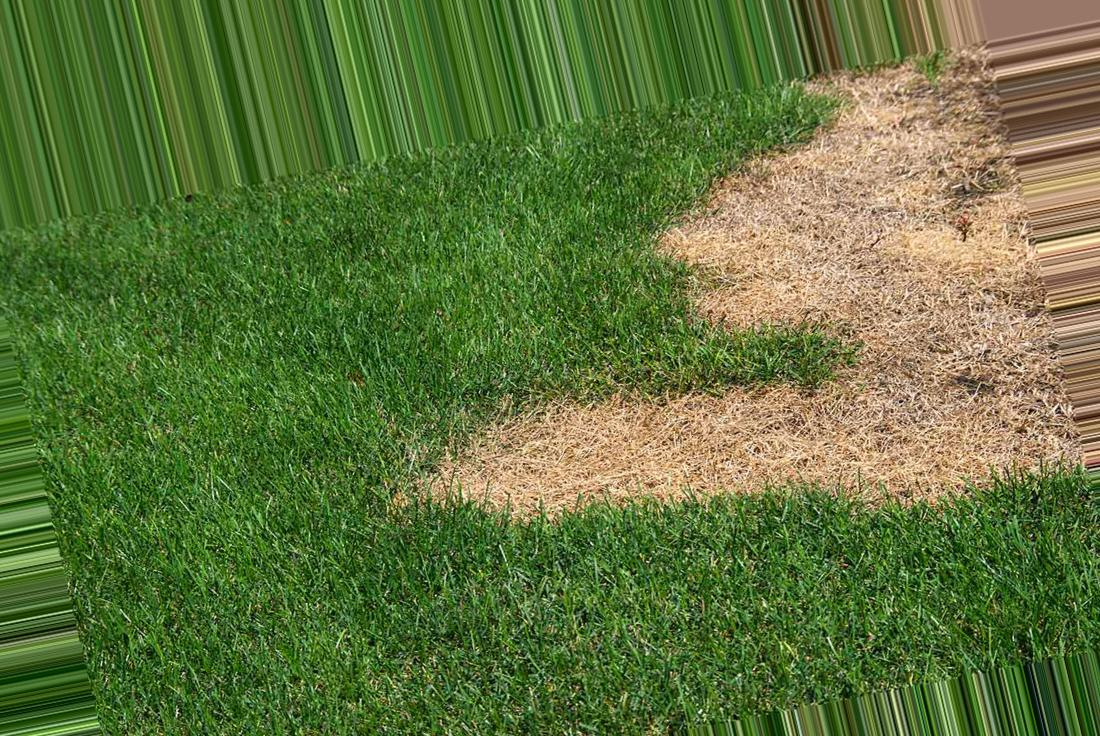patch: (744, 168, 997, 336), (515, 407, 1001, 485), (831, 73, 1005, 167)
